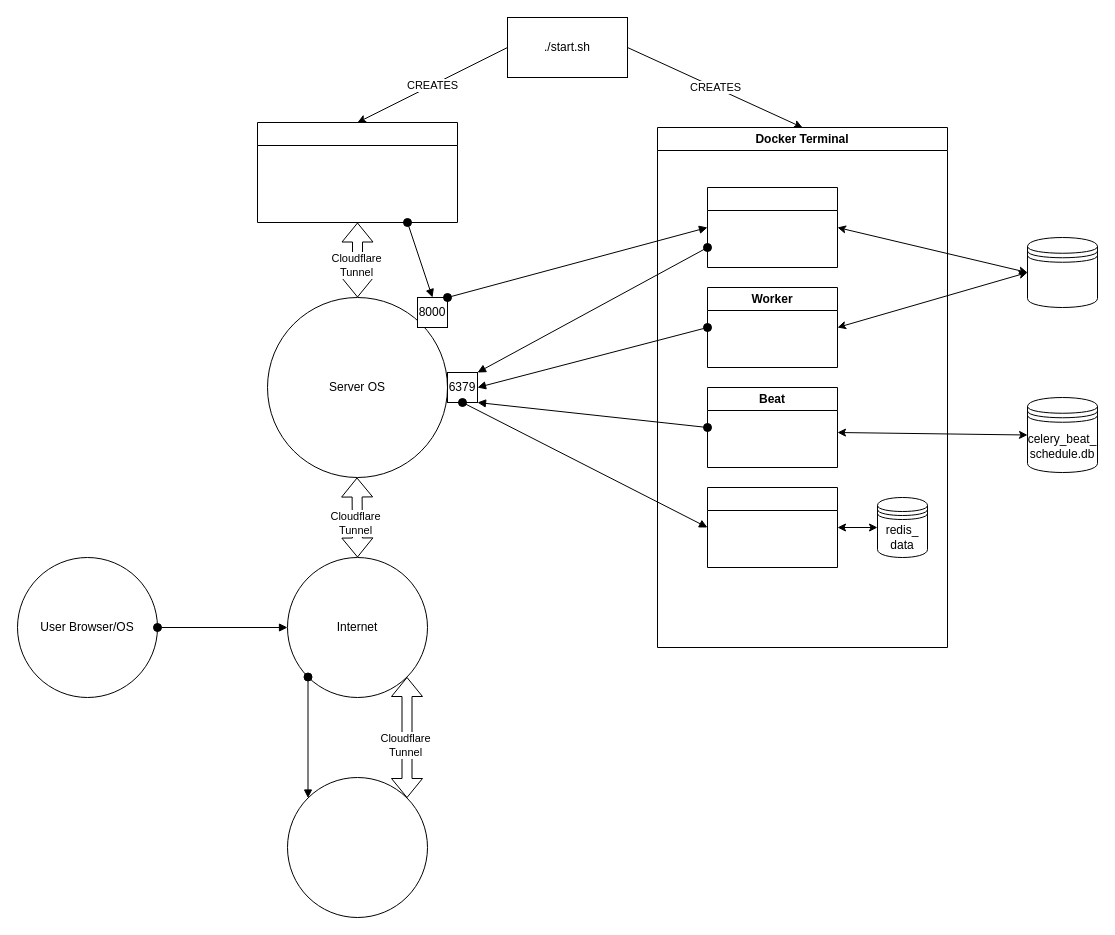
Image size: 1115x935. Some labels were removed from this diagram. The box of each missing label's shape, as (x1, y1, x2, y2) in pixels:
API: (706, 186, 838, 268)
Cloudflare Servers: (286, 776, 428, 918)
Cloudflare Terminal: (256, 122, 458, 222)
dev.db: (1026, 236, 1098, 308)
Redis: (706, 486, 838, 568)
